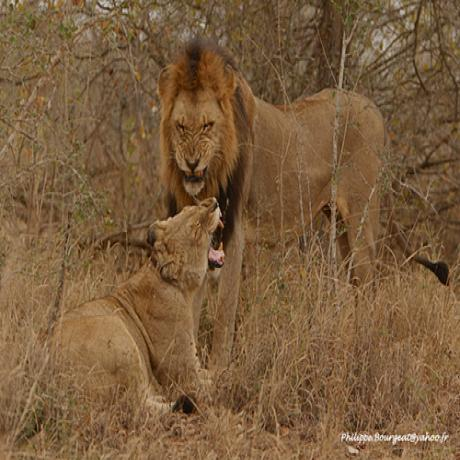Lion: (159, 43, 387, 210), (60, 196, 217, 414)
